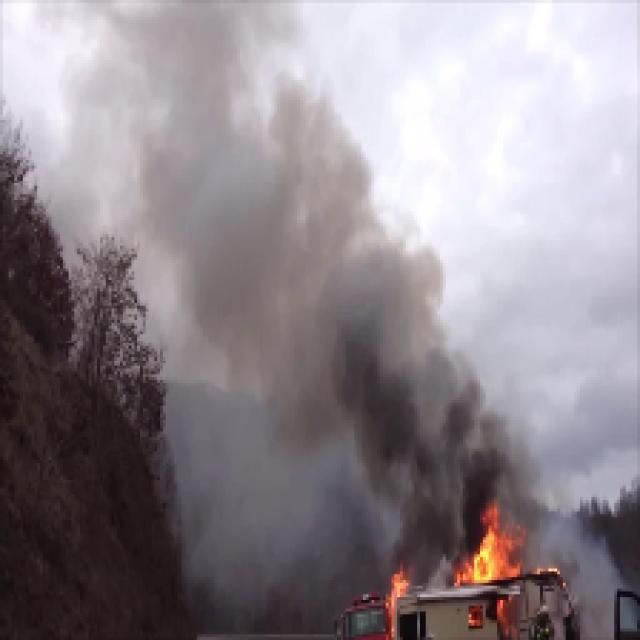Fire: (468, 528, 512, 572)
Smoke: (226, 198, 396, 332), (354, 353, 474, 510)
